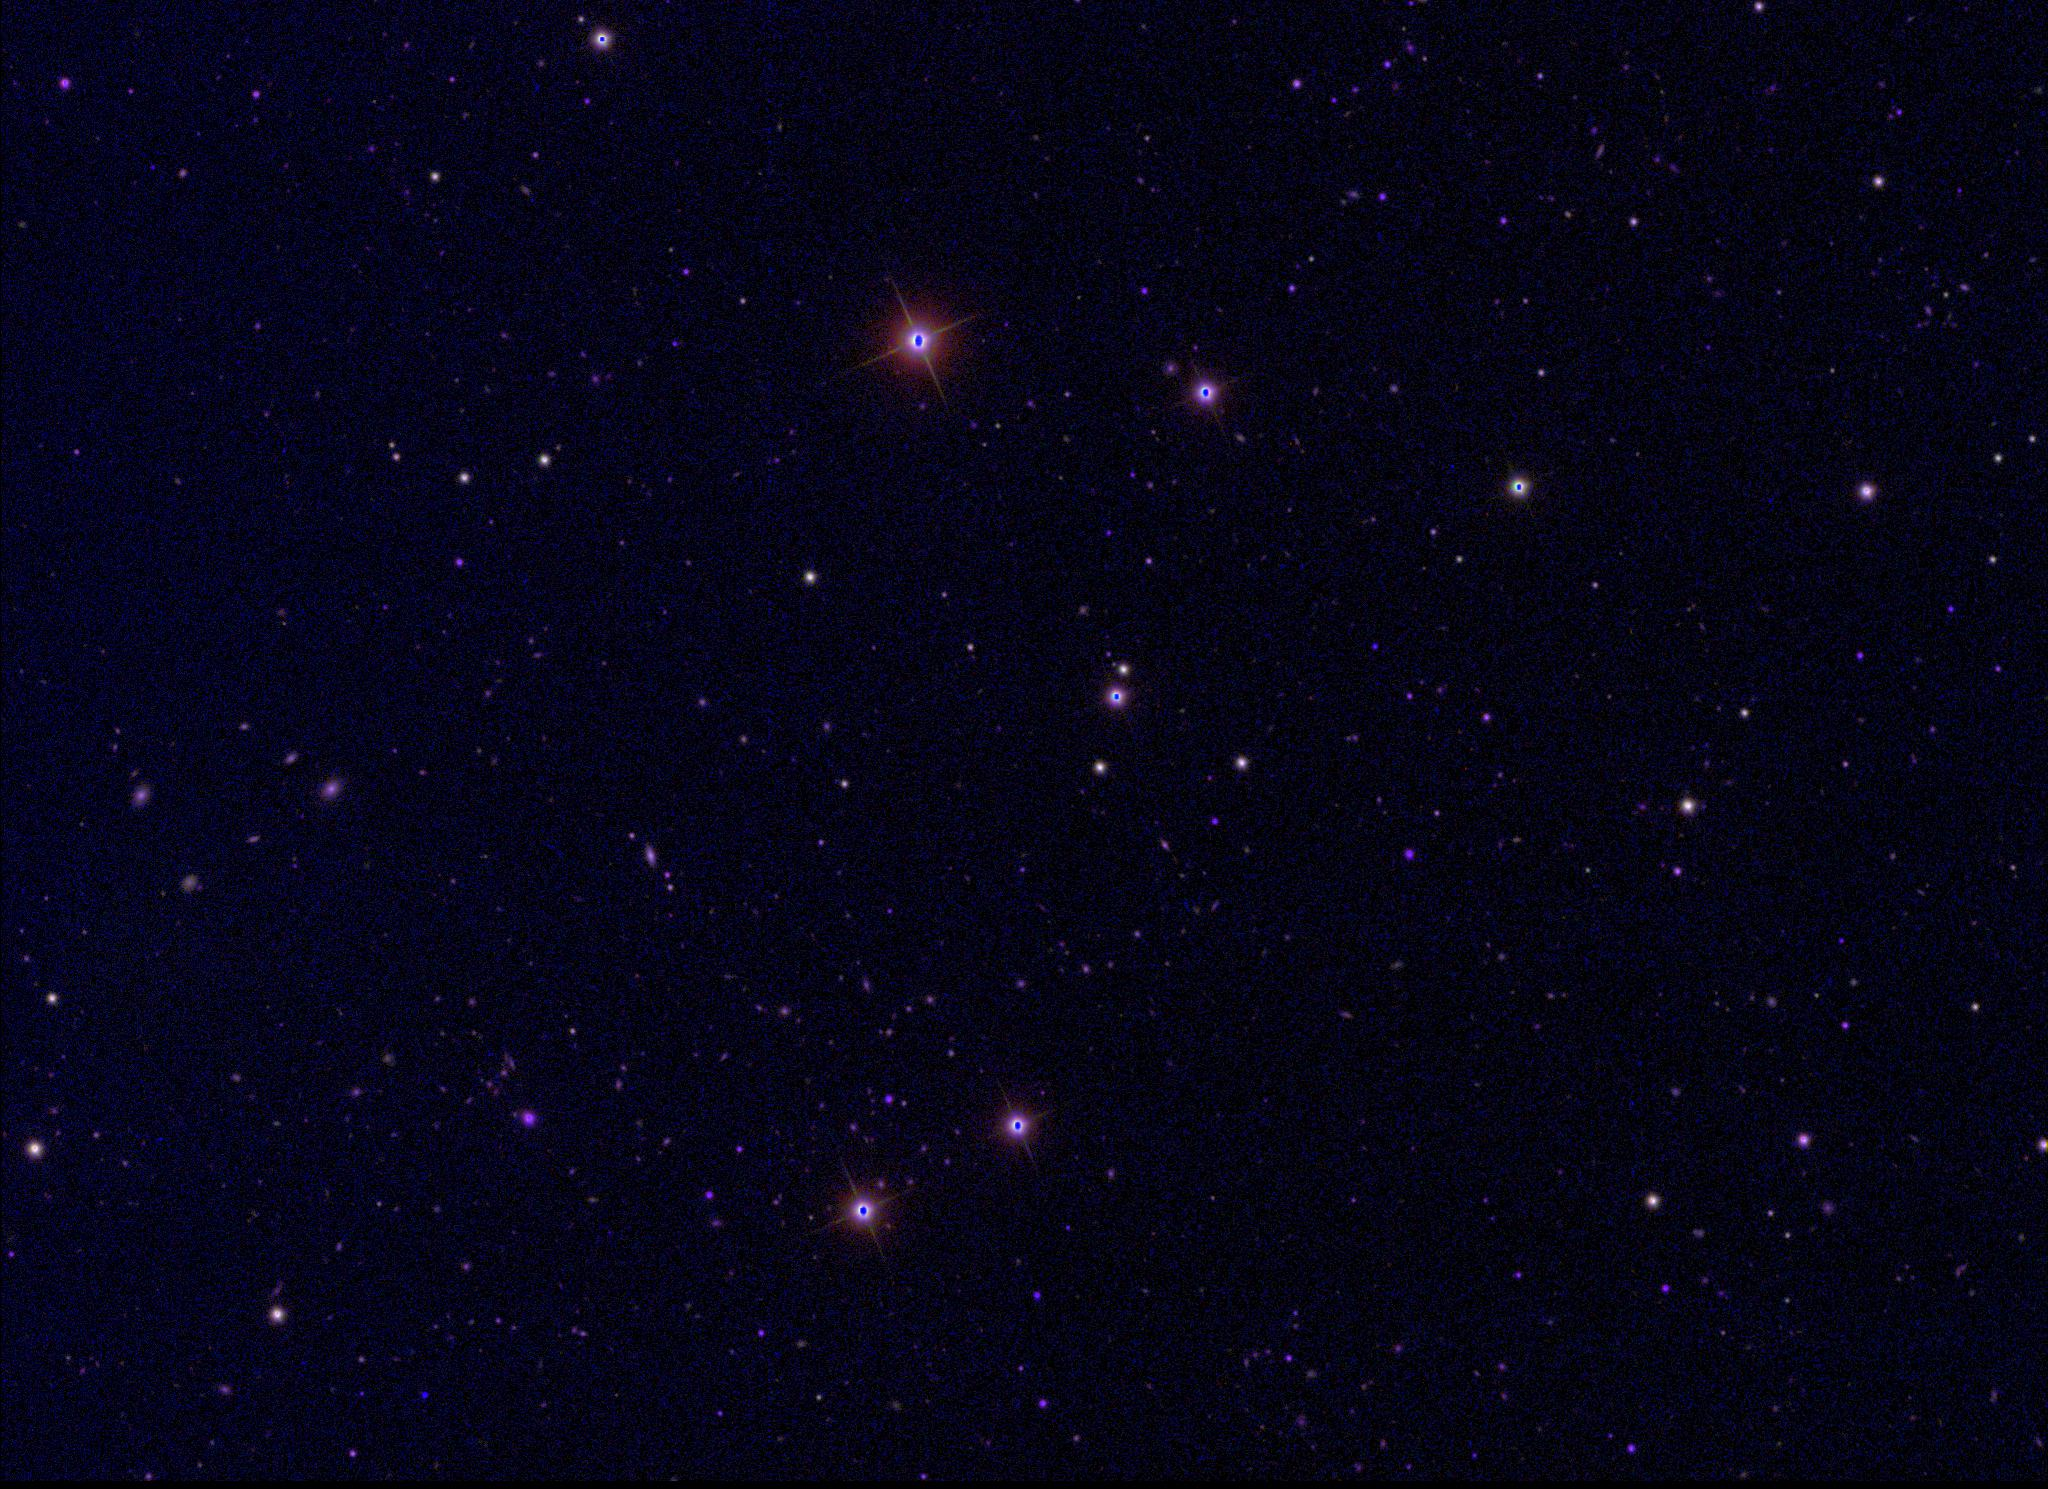L: (420, 1386, 432, 1400)
